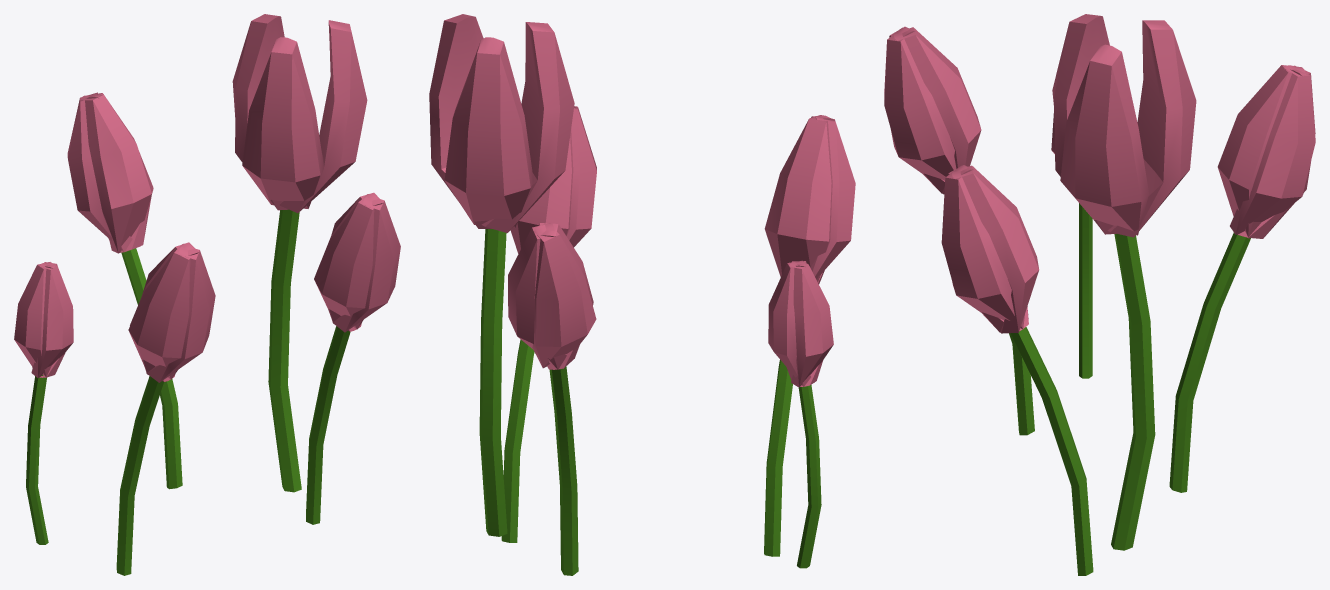
File: flower1.fbx
The picture shows the model from 3 angles, left to right: view 1: azimuth 30°, elevation 25°; view 2: azimuth 150°, elevation 25°; view 3: azimuth 270°, elevation 25°; orthographic projection. The views are drawn at different scales.
Parts seen in each view (by area): view 1: stems; view 2: stems; view 3: stems.
Part boxes in pixels (x1,y1,x2,y2): stems: [14, 14, 400, 575]; stems: [429, 14, 855, 575]; stems: [884, 14, 1315, 575].
Bounding box in the file's own units: 0.415 × 0.5446 × 0.3906.
